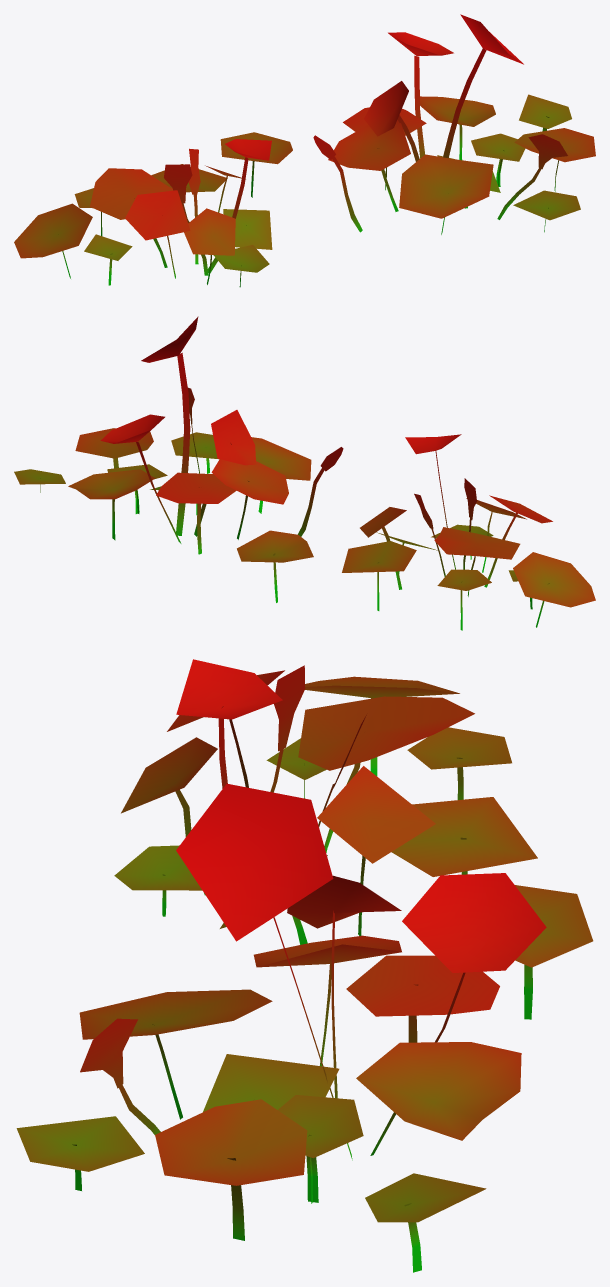
The model's file is Var6_LOD1.fbx.
The picture shows the model from 3 angles, top to bottom: view 1: azimuth 30°, elevation 25°; view 2: azimuth 150°, elevation 25°; view 3: azimuth 270°, elevation 25°; orthographic projection. The views are drawn at different scales.
Visible parts, largest first — view 1: _4a59_Var6_LOD1; view 2: _4a59_Var6_LOD1; view 3: _4a59_Var6_LOD1.
Boxes of the visible parts, x1,y1,x2,y2 form: _4a59_Var6_LOD1: (14, 14, 595, 287); _4a59_Var6_LOD1: (14, 316, 595, 630); _4a59_Var6_LOD1: (16, 659, 593, 1272).
Bounding box in the file's own units: 46.54 × 15.42 × 20.62.
